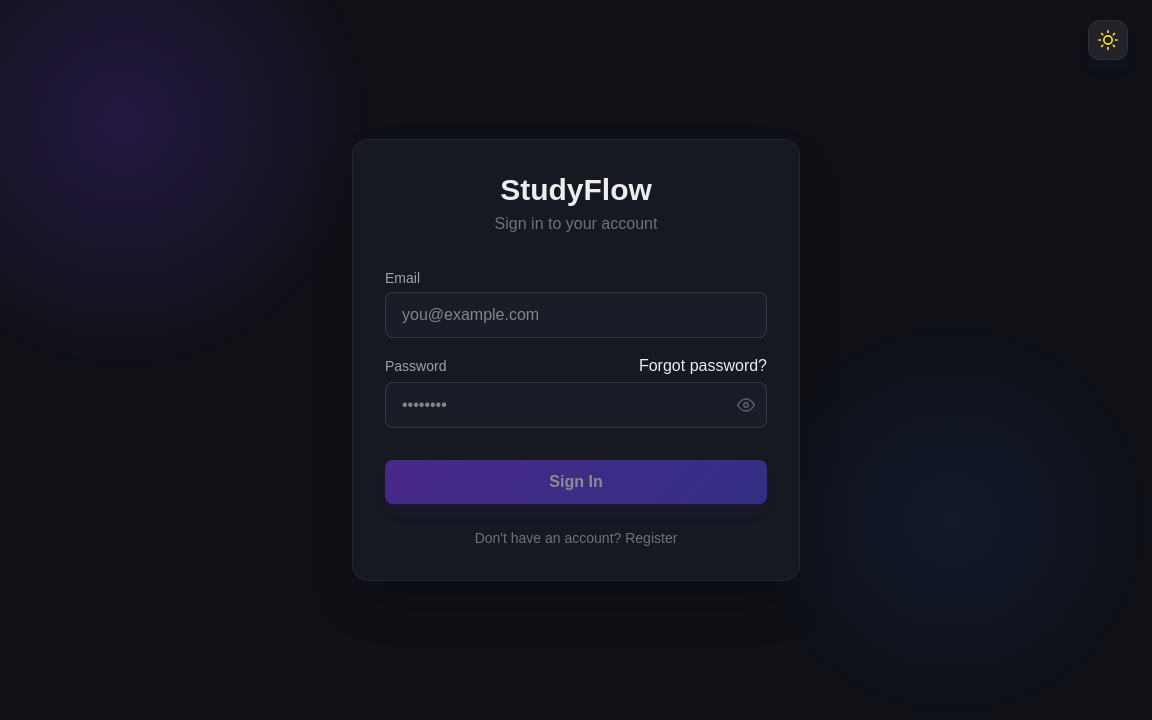
it: LoginPage › shows CAPTCHA error when submitting without CAPTCHA
Type "test@test.com" into the field with placeholder "you@example.com". click: x=576, y=315
box: [385,292,767,338]
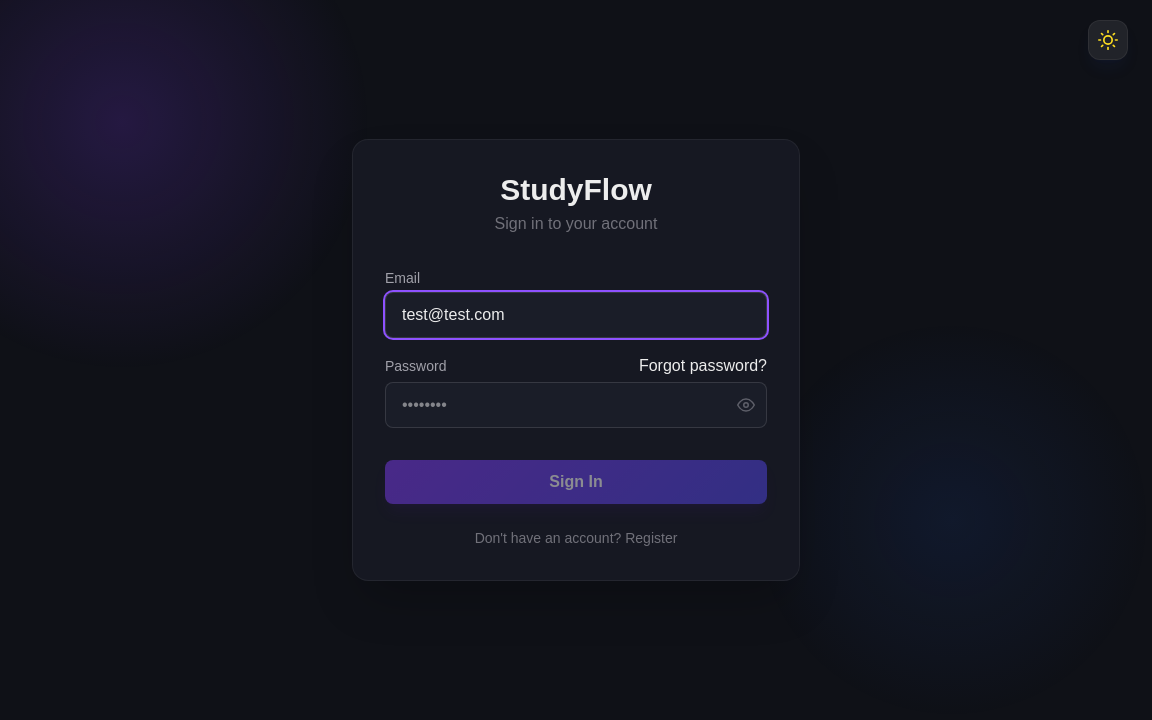
Type "password" into the password field with placeholder "••••••••". click: x=576, y=405
box: [385,382,767,428]
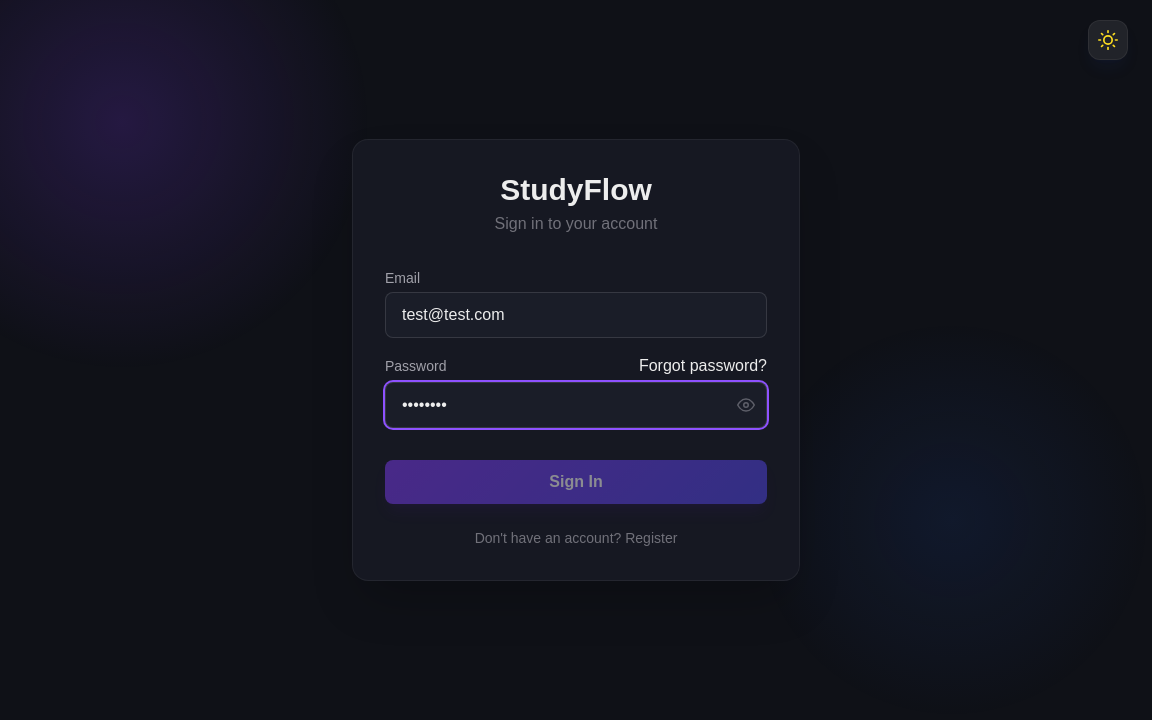
# submit form directly without captcha
Submit the form "Email Password Forgot password? Sign In", box [385,268,767,504]
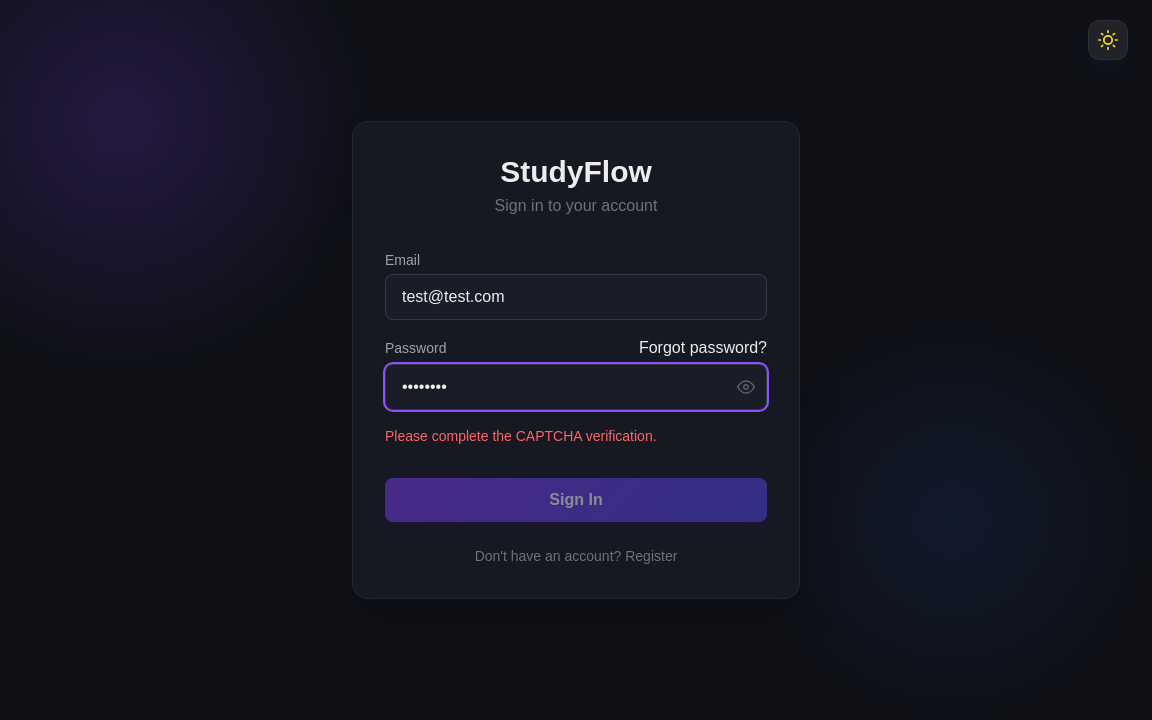
Check: the text "Please complete the CAPTCHA verification." is shown, box [385,428,657,444]
